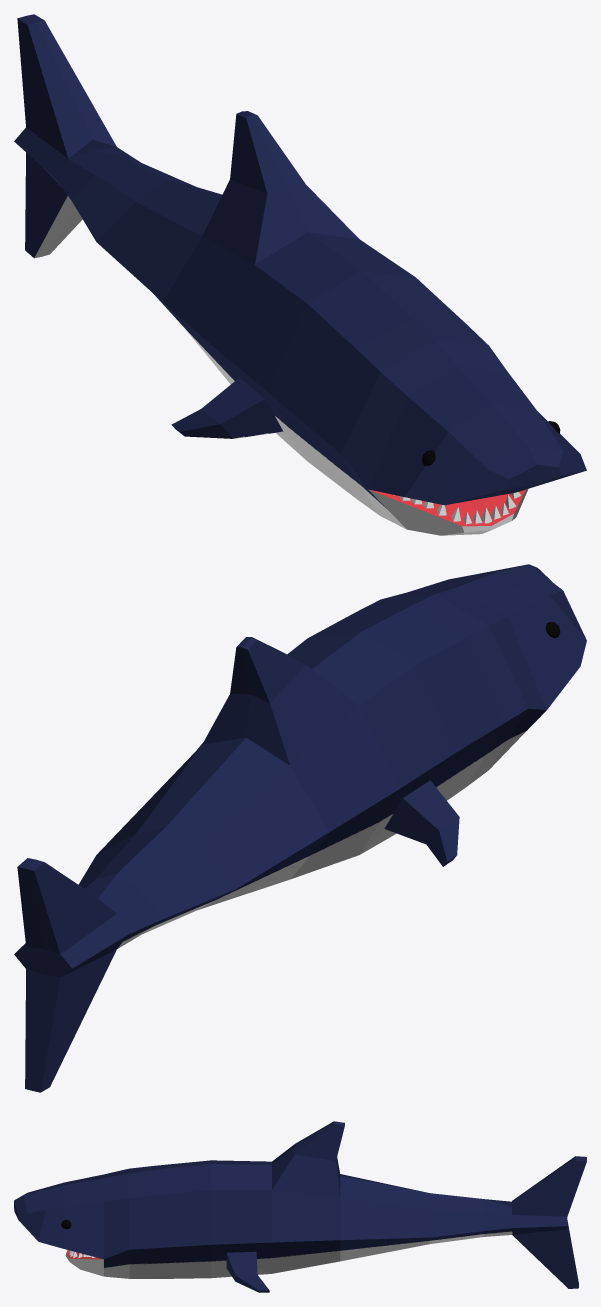
Rendered from shark.fbx.
The picture shows the model from 3 angles, top to bottom: view 1: azimuth 30°, elevation 25°; view 2: azimuth 150°, elevation 25°; view 3: azimuth 270°, elevation 25°; orthographic projection. The views are drawn at different scales.
Parts seen in each view (by area): view 1: Cube_Cube.001; view 2: Cube_Cube.001; view 3: Cube_Cube.001.
Part boxes in pixels (<box>): Cube_Cube.001: <box>14,14,586,535</box>; Cube_Cube.001: <box>14,564,586,1092</box>; Cube_Cube.001: <box>14,1121,586,1292</box>.
Size of the model in its own units: 118 by 121 by 380.
